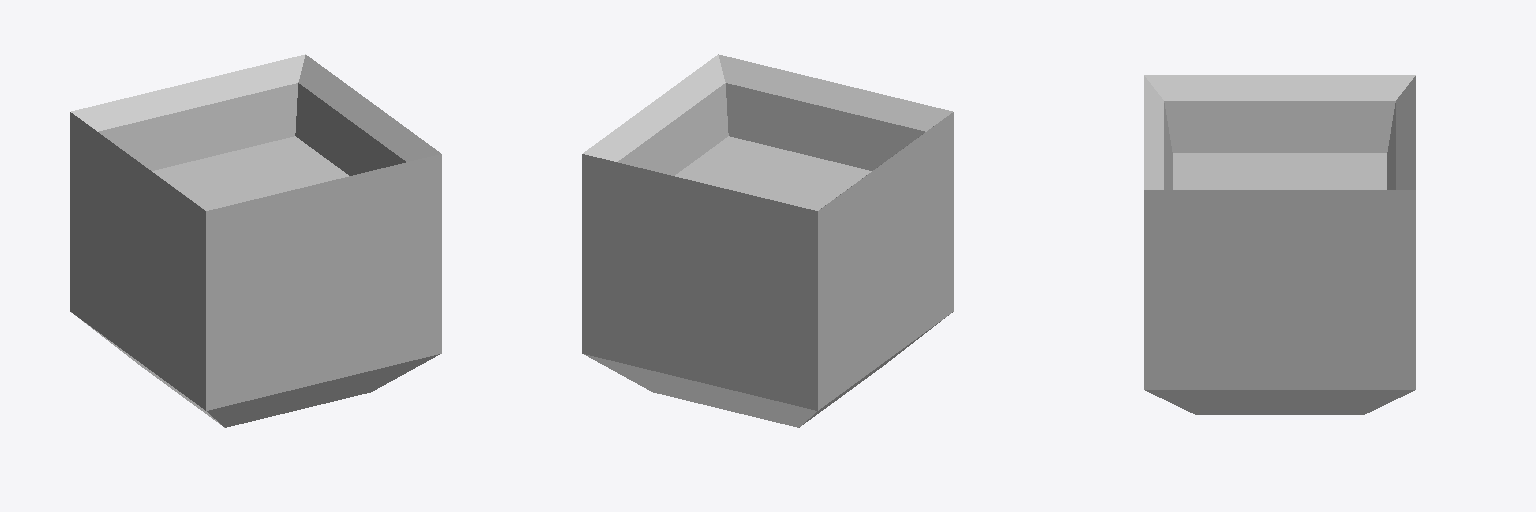
Rendered from pot.obj.
3 renders of one model, left to right at view 1: azimuth 30°, elevation 25°; view 2: azimuth 150°, elevation 25°; view 3: azimuth 270°, elevation 25°, orthographic.
Visible parts, largest first — view 1: Куб, Плоскость; view 2: Куб, Плоскость; view 3: Куб, Плоскость.
Boxes of the visible parts, x1=… form: Куб: x1=70, y1=54, x2=441, y2=427; Плоскость: x1=152, y1=136, x2=348, y2=210; Куб: x1=582, y1=54, x2=953, y2=427; Плоскость: x1=675, y1=136, x2=871, y2=210; Куб: x1=1144, y1=75, x2=1415, y2=414; Плоскость: x1=1173, y1=153, x2=1386, y2=189.
Bounding box in the file's own units: 2 × 2 × 2.